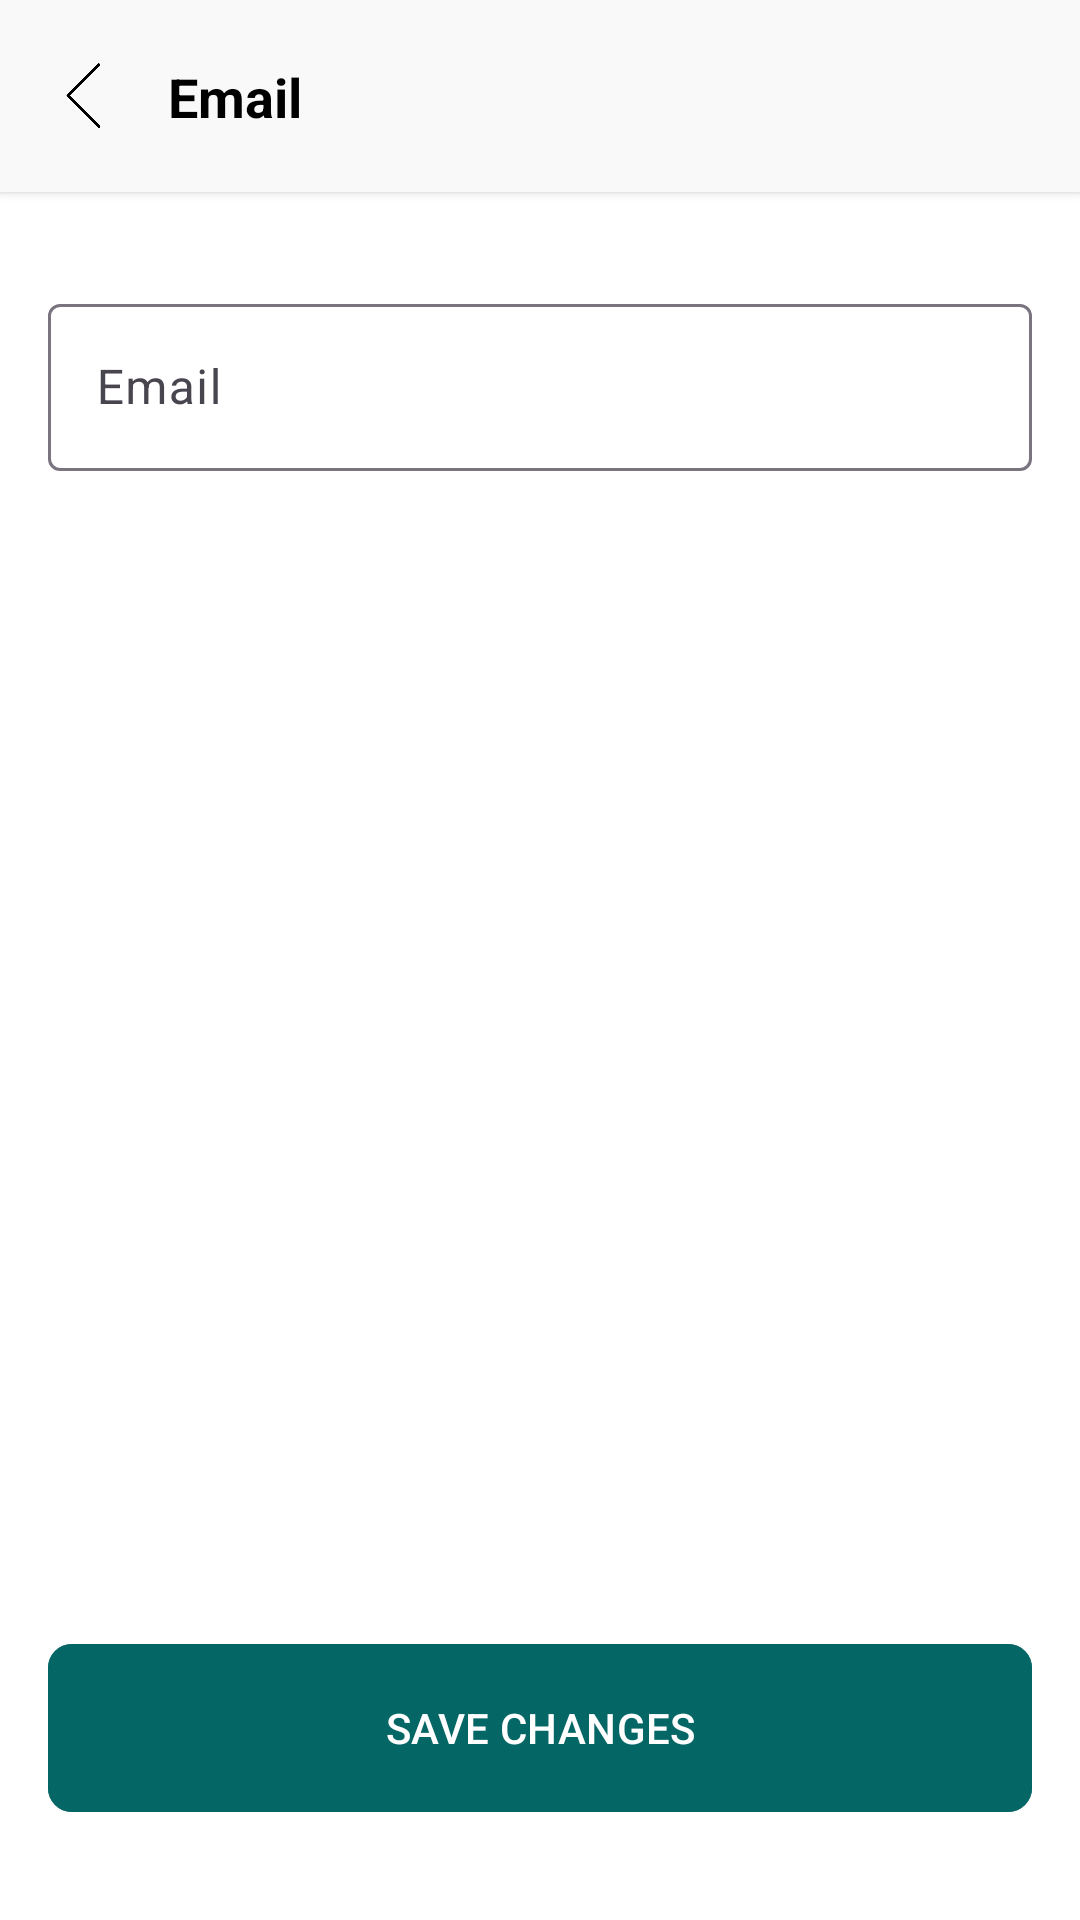

Icon bounding boxes for this 1080x1920 phone screenshot, format bbox(x1, y1, x2, y2):
Back: bbox(66, 63, 100, 128)
